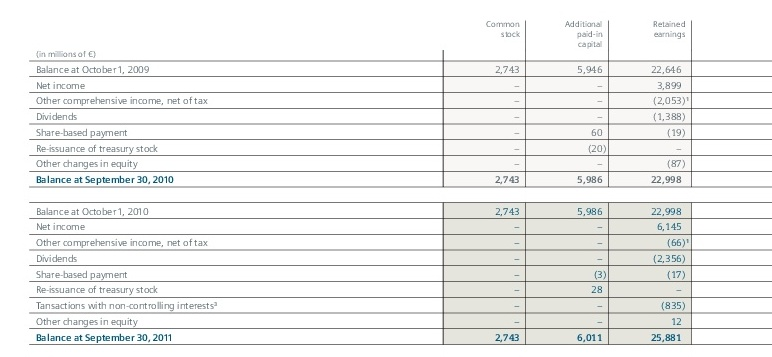table: (0, 0, 772, 357)
